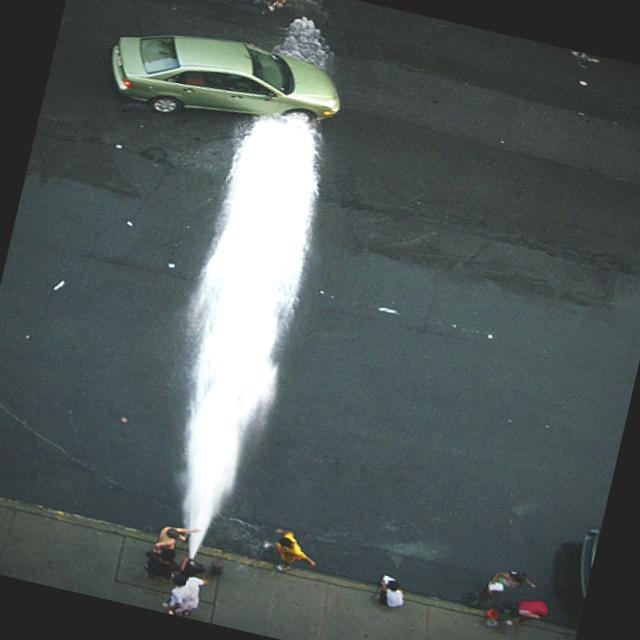Vehicle: (100, 16, 350, 151), (570, 514, 603, 614)
